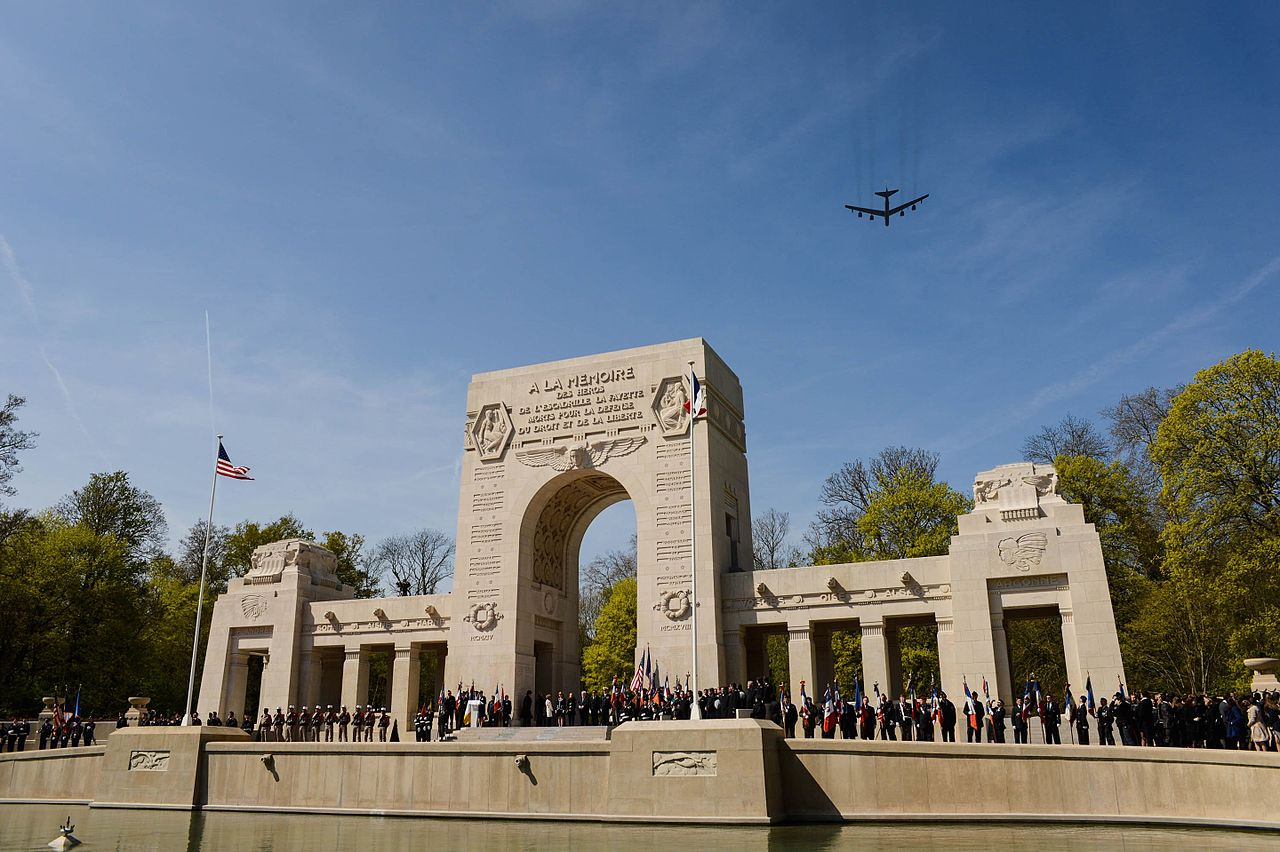B52: (844, 184, 930, 227)
